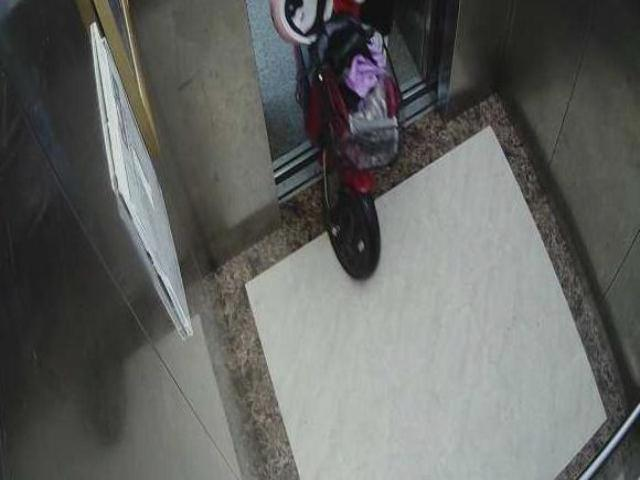emotor: (284, 10, 409, 276)
